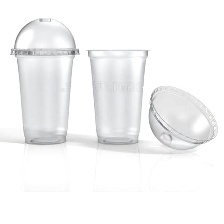glass: (3, 8, 82, 150), (75, 42, 160, 145)
